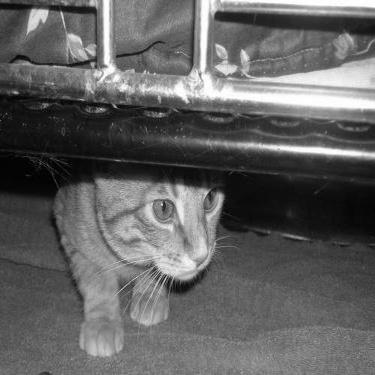cat: (22, 150, 232, 339)
